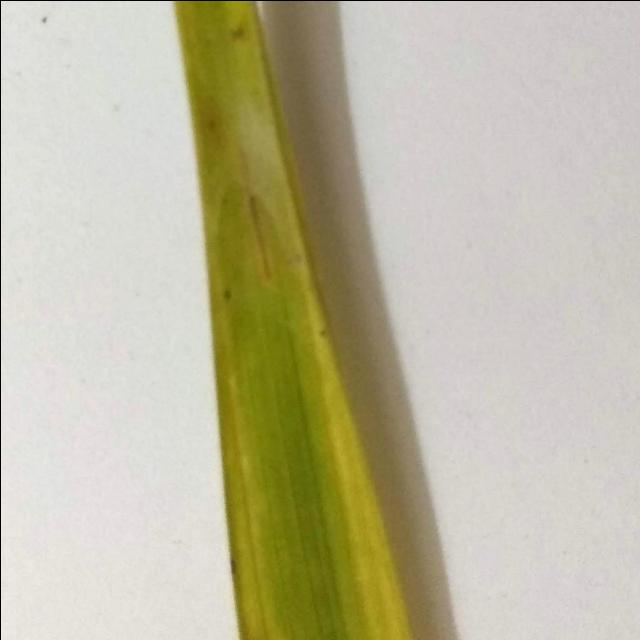Brown spot: (104, 0, 495, 640)
